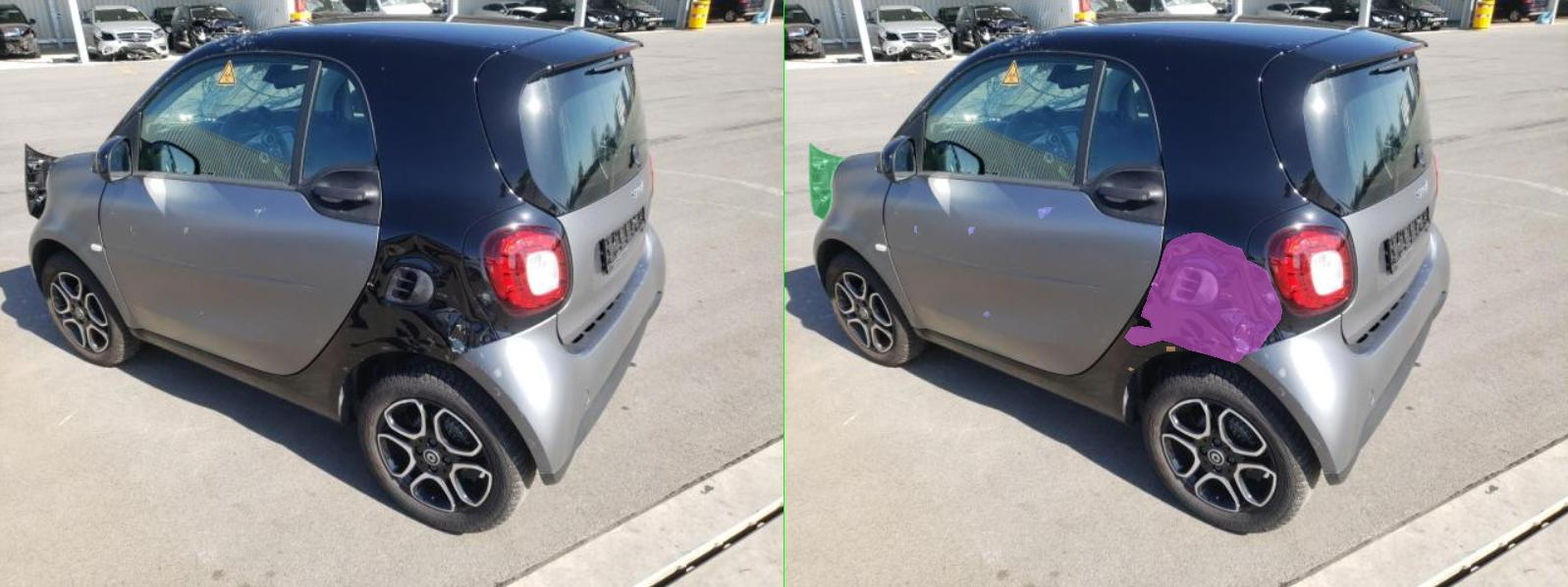Broken part: (49, 142, 122, 219)
Dent: (680, 233, 994, 362)
Paint chip: (764, 347, 780, 350), (688, 367, 698, 370)
Scratch: (507, 207, 536, 218), (904, 347, 929, 353), (965, 293, 982, 301), (912, 324, 925, 332), (367, 227, 379, 235), (896, 337, 914, 342), (733, 282, 751, 287), (397, 311, 411, 316), (259, 226, 263, 233)
